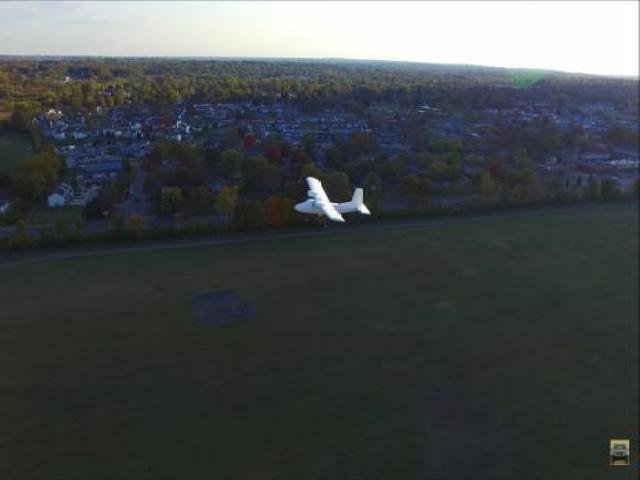uav: (293, 176, 372, 224)
